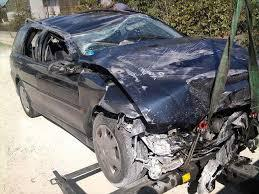Headlight-Damage: (137, 112, 181, 165)
bonnet-dent: (95, 38, 217, 93)
fender-dent: (79, 73, 132, 120)
roof-dent: (36, 4, 126, 35)
